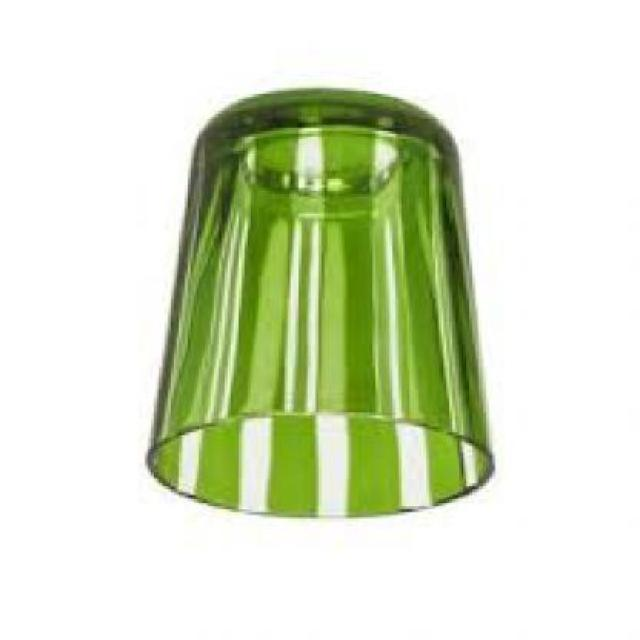kaca: (144, 94, 498, 520)
